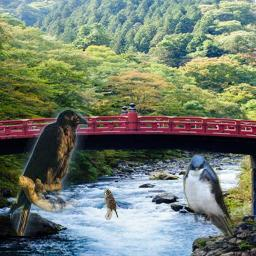Crow: (10, 109, 88, 236)
Sparrow: (104, 189, 119, 220)
Swallow: (183, 153, 235, 237)
